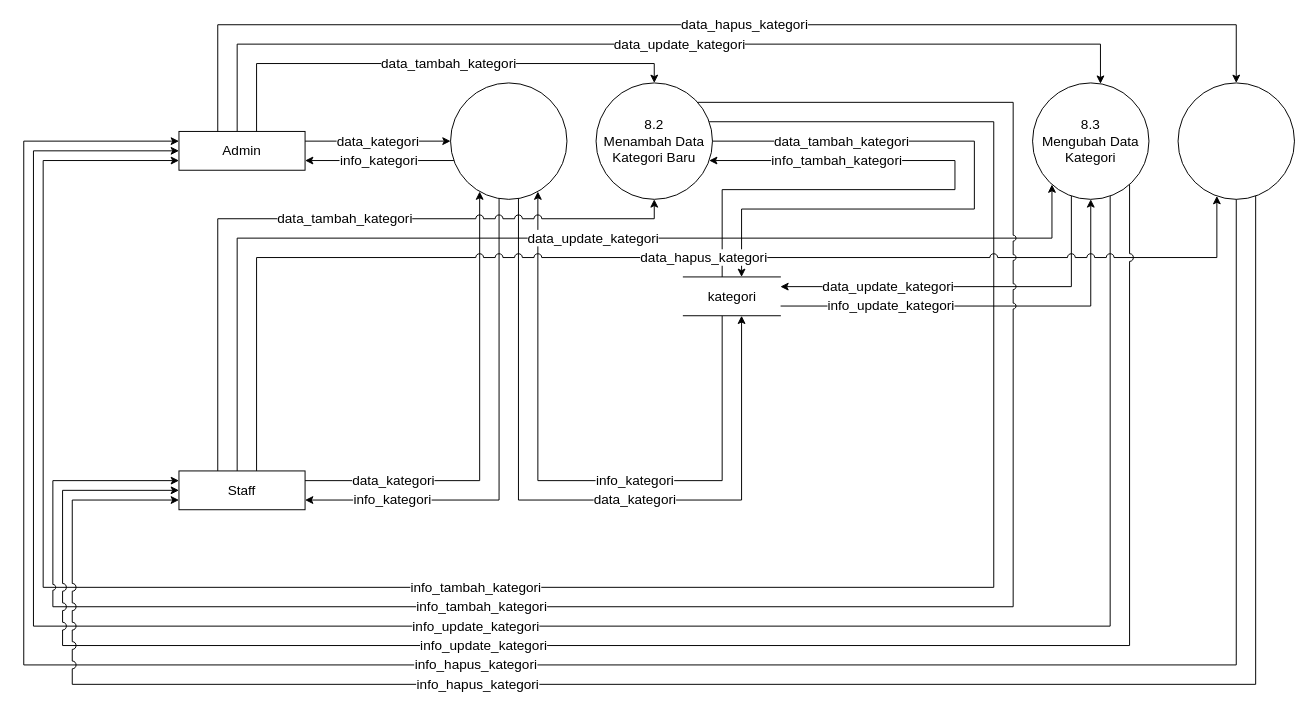
The diagram is 1311 pixels wide and 709 high, and some of its shapes have lost their labels. The centre of each missing label's shape, as x and y in pixels:
"8.1 Menampilkan Daftar Kategori" goes at point 508,140.
"8.4 Menghapus Data Kategori" goes at point 1235,140.
